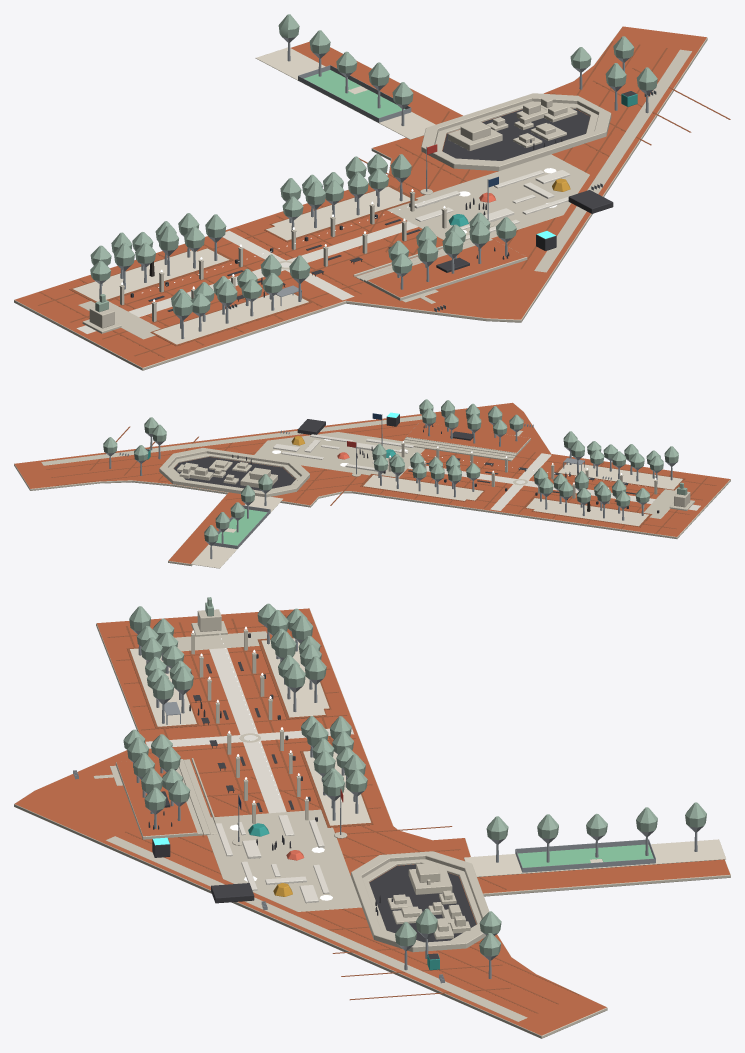
Rendered from un-plaza.glb.
3 views of the same model, one above another, from view 1: azimuth 30°, elevation 25°; view 2: azimuth 150°, elevation 25°; view 3: azimuth 270°, elevation 25° (orthographic). The views are drawn at different scales.
Visible parts, largest first — view 1: grp_Toy_brick_Toy_stone, grp_Toy_stone, grp_Toy_verdigris, grp_Toy_sand, grp_Toy_rust, grp_Toy_steel, grp_Toy_cream, fount_floor, arm_strip, grp_Toy_roofd, arm_dogrun; view 2: grp_Toy_brick_Toy_stone, grp_Toy_stone, grp_Toy_verdigris, grp_Toy_sand, grp_Toy_rust, grp_Toy_steel, grp_Toy_cream, fount_floor, grp_Toy_roofd, arm_strip, arm_dogrun; view 3: grp_Toy_brick_Toy_stone, grp_Toy_stone, grp_Toy_verdigris, grp_Toy_rust, grp_Toy_cream, grp_Toy_sand, grp_Toy_steel, fount_floor, arm_strip, grp_Toy_roofd, arm_dogrun.
Boxes of the visible parts, left/top/right/bottom form: grp_Toy_brick_Toy_stone: left=14, top=26, right=707, bottom=370; grp_Toy_stone: left=78, top=49, right=691, bottom=339; grp_Toy_verdigris: left=90, top=14, right=657, bottom=315; grp_Toy_sand: left=73, top=186, right=410, bottom=344; grp_Toy_rust: left=38, top=41, right=730, bottom=357; grp_Toy_steel: left=94, top=36, right=656, bottom=338; grp_Toy_cream: left=76, top=170, right=570, bottom=333; fount_floor: left=442, top=109, right=590, bottom=160; arm_strip: left=255, top=47, right=435, bottom=139; grp_Toy_roofd: left=130, top=138, right=613, bottom=311; arm_dogrun: left=304, top=70, right=405, bottom=117; grp_Toy_brick_Toy_stone: left=14, top=402, right=730, bottom=566; grp_Toy_stone: left=41, top=415, right=694, bottom=518; grp_Toy_verdigris: left=103, top=399, right=687, bottom=542; grp_Toy_sand: left=363, top=463, right=682, bottom=526; grp_Toy_rust: left=46, top=422, right=716, bottom=533; grp_Toy_steel: left=105, top=414, right=677, bottom=559; grp_Toy_cream: left=273, top=434, right=700, bottom=510; fount_floor: left=174, top=457, right=295, bottom=490; grp_Toy_roofd: left=232, top=414, right=659, bottom=513; arm_strip: left=191, top=495, right=282, bottom=568; arm_dogrun: left=216, top=509, right=267, bottom=545; grp_Toy_brick_Toy_stone: left=14, top=608, right=730, bottom=1038; grp_Toy_stone: left=93, top=609, right=527, bottom=1021; grp_Toy_verdigris: left=123, top=597, right=706, bottom=956; grp_Toy_rust: left=107, top=614, right=579, bottom=1013; grp_Toy_cream: left=145, top=648, right=353, bottom=903; grp_Toy_sand: left=130, top=638, right=370, bottom=825; grp_Toy_steel: left=73, top=623, right=703, bottom=983; fount_floor: left=369, top=864, right=476, bottom=942; arm_strip: left=464, top=839, right=725, bottom=876; grp_Toy_roofd: left=148, top=633, right=392, bottom=915; arm_dogrun: left=518, top=844, right=653, bottom=867.
Bounding box in the file's own units: 215 × 16.4 × 158.
